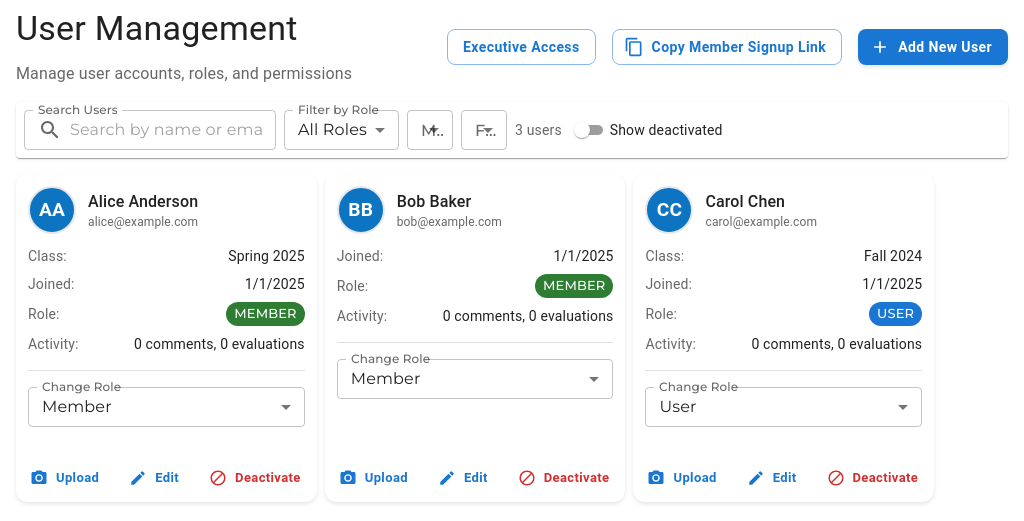
Test: UserManagement graduation class filter › renders the class filter with All, Unknown, and sorted class options
Expected: the heading "Alice Anderson" is shown, [88,192,198,210]
Press the mouse on the dropdown next to "Filter by Class" at point(484, 130), box [461,110,507,150]
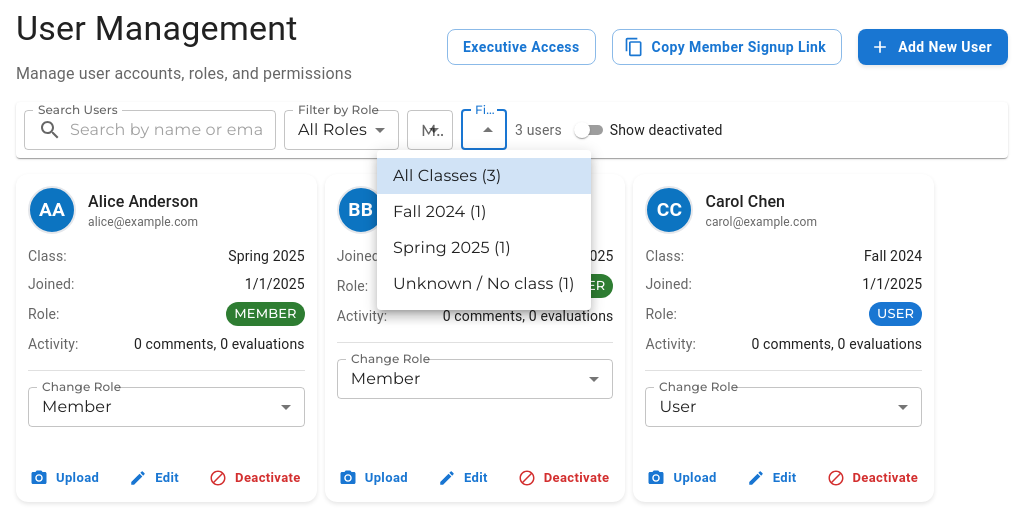
Expected: the option "All Classes (3)" is shown, [377,158,591,194]
Expected: the option "Unknown / No class (1)" is shown, [393,274,575,293]
Expected: the option "Fall 2024 (1)" is shown, [393,202,487,221]
